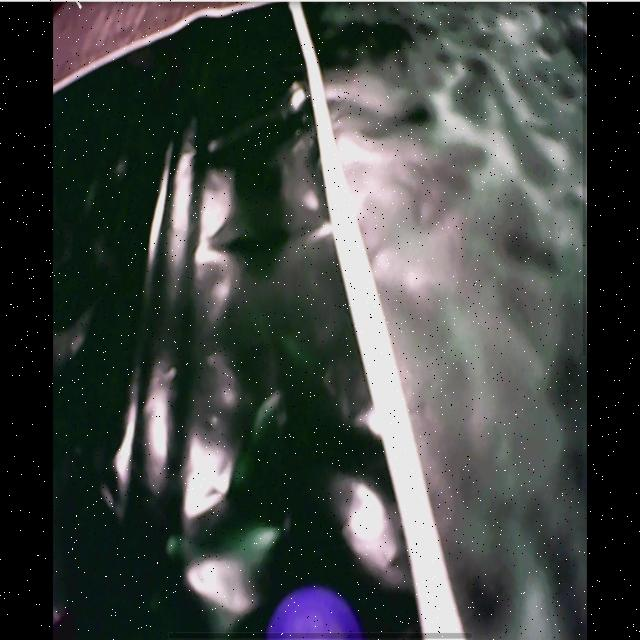ball: (267, 590, 362, 640)
